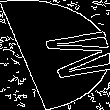M_W: (7, 26, 103, 84)
